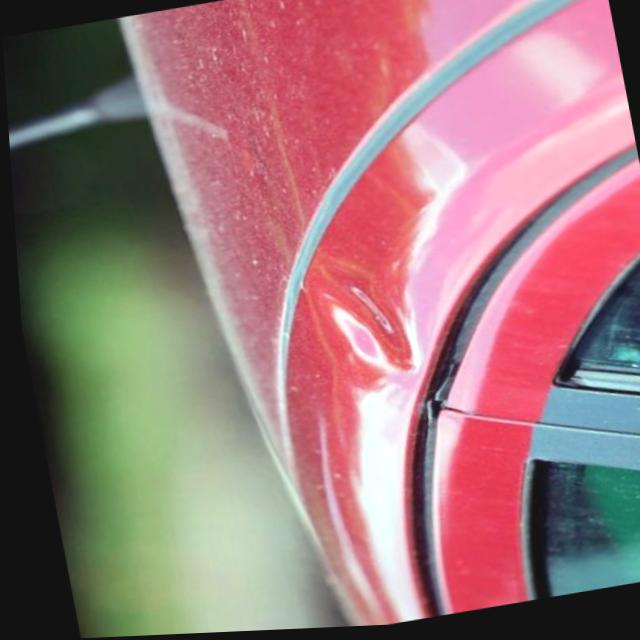Dent: (300, 259, 420, 401)
